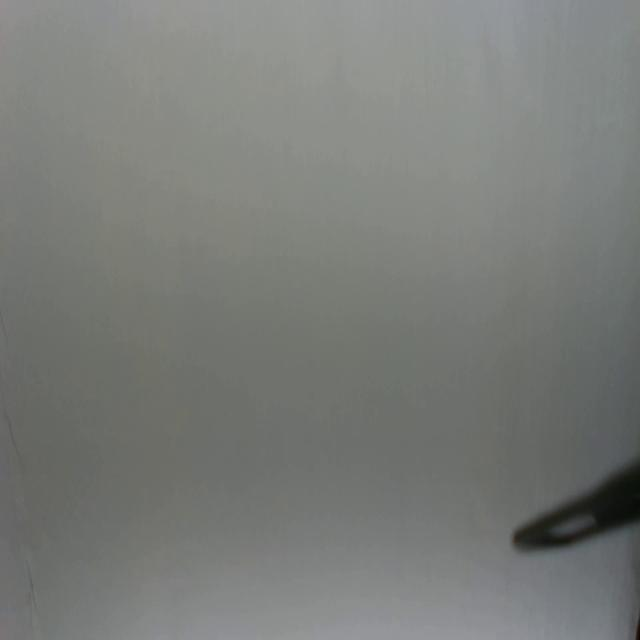crease: (2, 410, 26, 472), (25, 554, 37, 616)
